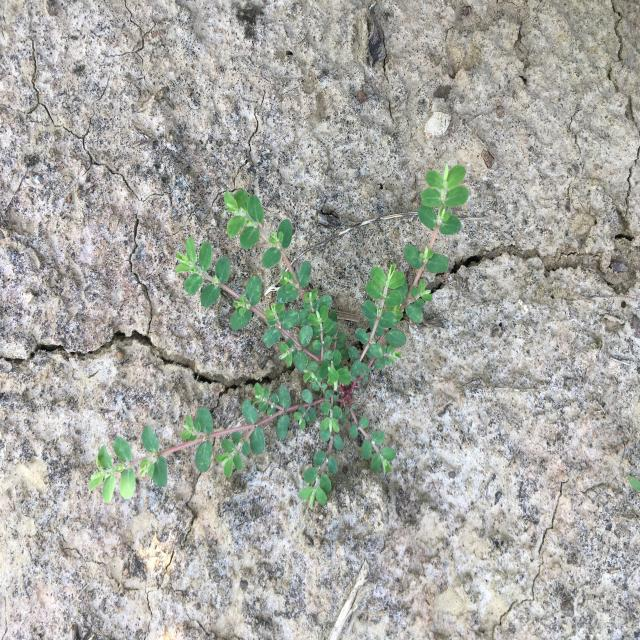SpottedSpurge: (89, 164, 469, 509)
